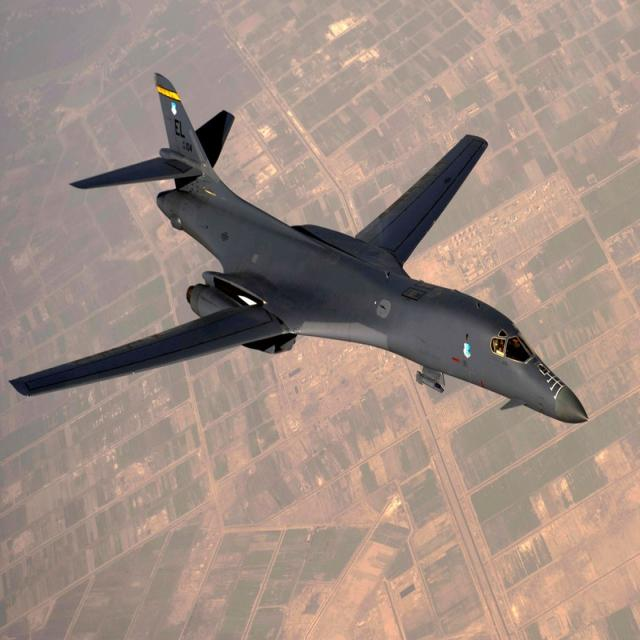B1: (15, 17, 619, 499)
